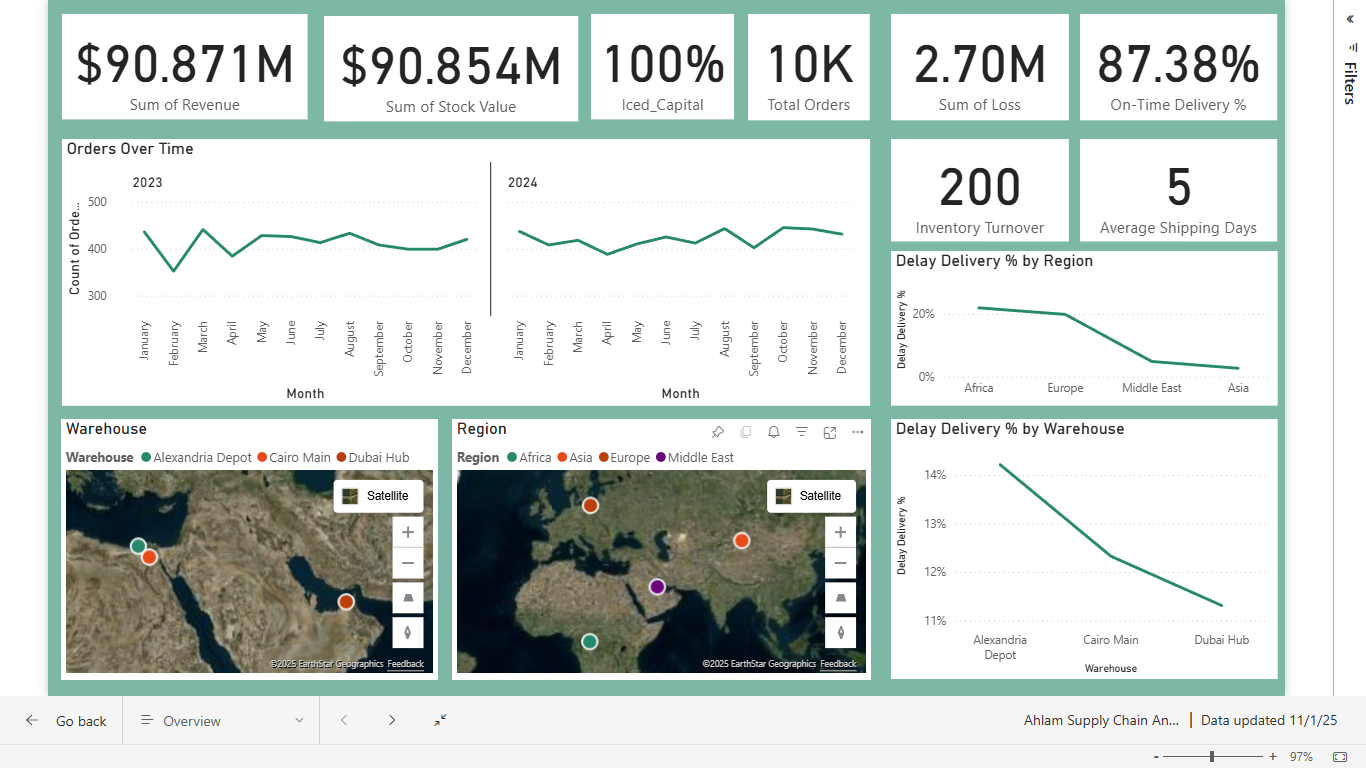

The dashboard page shown, as its layout file describes it:
{"tool":"powerbi","page":{"name":"Overview","canvas":[1280,720],"ordinal":0},"visuals":[{"type":"card","fields":{"Values":["orders.Revenue"]},"box":[14.7,14.7,254.2,108.7],"z":0},{"type":"card","fields":{"Values":["orders.Total Orders"]},"box":[724,14,126,110],"z":1000},{"type":"card","fields":{"Values":["orders.Average Shipping Days"]},"box":[1068,144,204,106],"z":2000},{"type":"card","fields":{"Values":["orders.On-Time Delivery %"]},"box":[1068,14,204,110],"z":3000},{"type":"card","fields":{"Values":["orders.Discounts"]},"box":[872,14,184,110],"z":4000},{"type":"lineChart","title":"Orders Over Time ","fields":{"Y":["orders.OrderID"],"Rows":["orders.OrderDate.Variation.Date Hierarchy.Year"],"Category":["orders.OrderDate.Variation.Date Hierarchy.Month"]},"box":[14,144,836,276],"z":5000},{"type":"azureMap","title":"Region ","fields":{"Series":["suppliers.Region"],"Category":["suppliers.Region"]},"box":[417.6,433.3,433.3,268.6],"z":6000},{"type":"lineChart","fields":{"Category":["suppliers.Region"],"Y":["orders.Delay Delivery %"]},"box":[872,260,400,160],"z":7000},{"type":"lineChart","fields":{"Category":["orders.Warehouse"],"Y":["orders.Delay Delivery %"]},"box":[872.5,433.3,400,268.6],"z":8000},{"type":"card","fields":{"Values":["inventory.Stock Value"]},"box":[285.1,16.2,263.1,108.7],"z":9000},{"type":"card","fields":{"Values":["inventory.Inventory Turnover"]},"box":[872,144,184,106],"z":10000},{"type":"azureMap","title":"Warehouse ","fields":{"Series":["orders.Warehouse"],"Category":["orders.Warehouse"]},"box":[13.7,433.3,390.2,268.6],"z":11000},{"type":"card","fields":{"Values":["inventory.Iced_Capital"]},"box":[561.4,14.7,148.4,108.7],"z":12000}]}

Visuals, with their boxes on the page's 1280x720 design canvas (x1, y1, x2, y2). These are canvas units, not pixel positions in the 1366x768 screenshot, which may show the page scaled, cropped or inside an application window:
card - orders.Revenue: detection(15, 15, 269, 123)
card - orders.Total Orders: detection(724, 14, 850, 124)
card - orders.Average Shipping Days: detection(1068, 144, 1272, 250)
card - orders.On-Time Delivery %: detection(1068, 14, 1272, 124)
card - orders.Discounts: detection(872, 14, 1056, 124)
"Orders Over Time " lineChart: detection(14, 144, 850, 420)
"Region " azureMap: detection(418, 433, 851, 702)
lineChart - suppliers.Region x orders.Delay Delivery %: detection(872, 260, 1272, 420)
lineChart - orders.Warehouse x orders.Delay Delivery %: detection(872, 433, 1272, 702)
card - inventory.Stock Value: detection(285, 16, 548, 125)
card - inventory.Inventory Turnover: detection(872, 144, 1056, 250)
"Warehouse " azureMap: detection(14, 433, 404, 702)
card - inventory.Iced_Capital: detection(561, 15, 710, 123)
